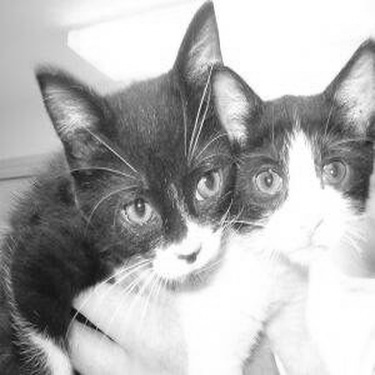cat: (3, 1, 236, 367), (203, 9, 373, 360)
